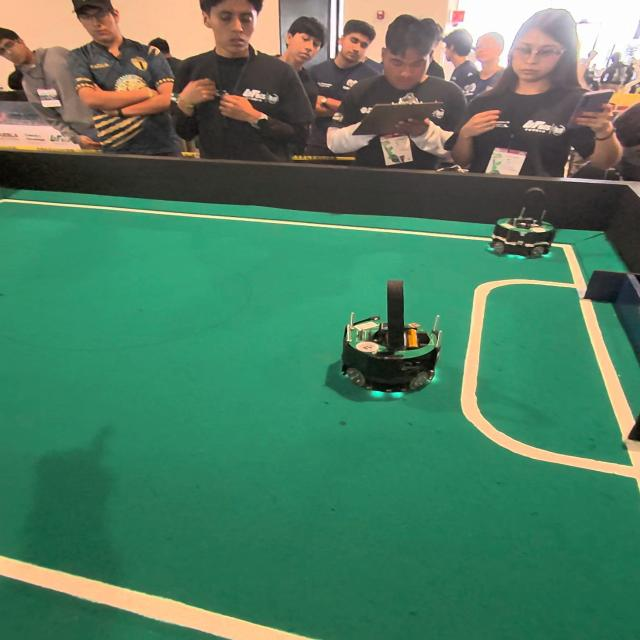Robot: (329, 295, 450, 411), (487, 187, 556, 262)
